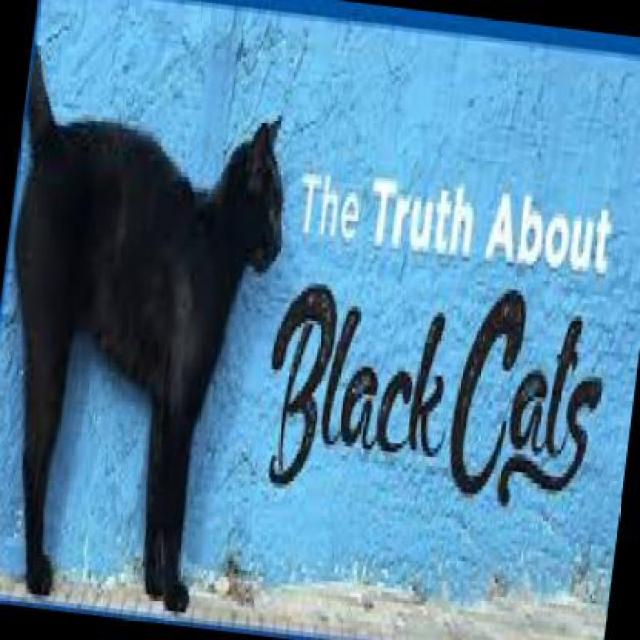animals: (0, 40, 303, 620)
